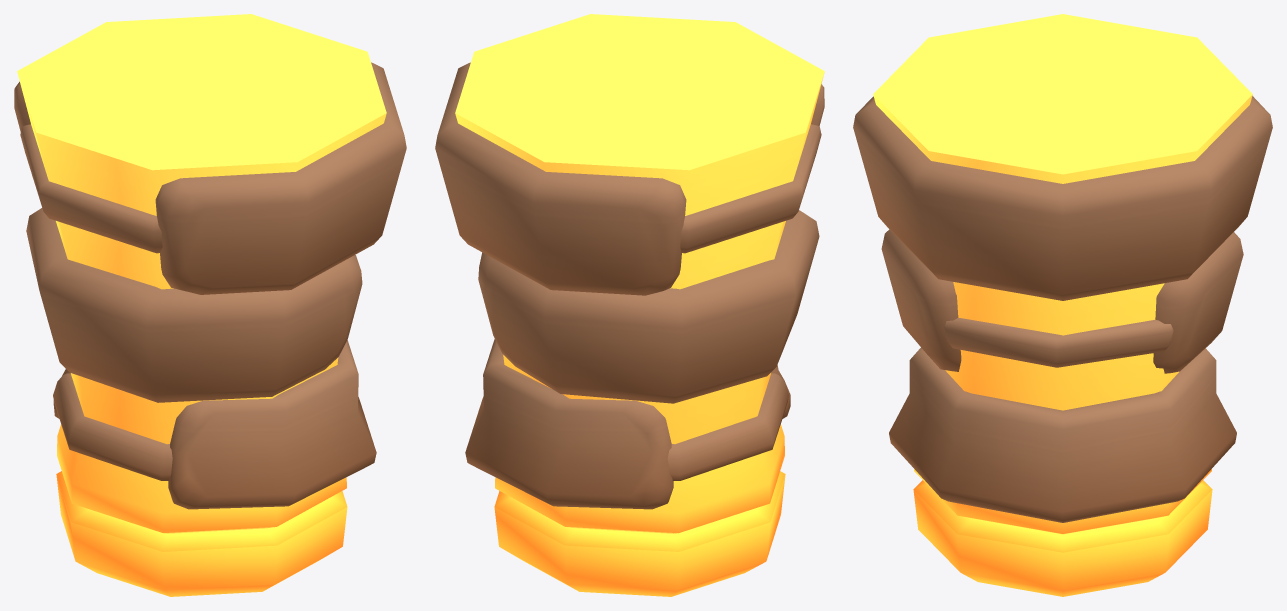
Rendered from gold_grip_023.glb.
3 renders of one model, left to right at view 1: azimuth 30°, elevation 25°; view 2: azimuth 150°, elevation 25°; view 3: azimuth 270°, elevation 25°, orthographic.
Parts seen in each view (by area): view 1: gold_grip_023; view 2: gold_grip_023; view 3: gold_grip_023.
Boxes of the visible parts, x1,y1,x2,y2 form: gold_grip_023: (14,14,406,596); gold_grip_023: (435,14,824,596); gold_grip_023: (853,14,1272,596).
Size of the model in its own units: 2.79 by 3.48 by 2.93.
Materials: 1 (1 with a texture image).
